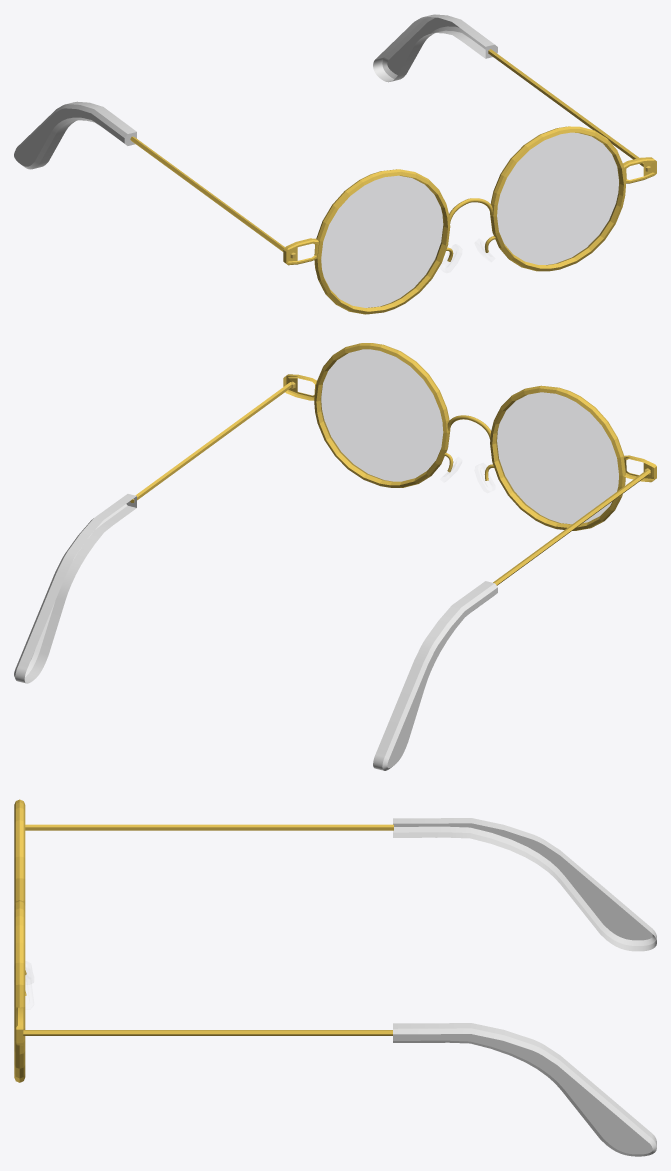
The model's file is movetoback.fbx.
3 views of the same model, one above another, from view 1: azimuth 30°, elevation 25°; view 2: azimuth 150°, elevation 25°; view 3: azimuth 270°, elevation 25° (orthographic). The views are drawn at different scales.
Parts seen in each view (by area): view 1: Disc, Extrude, Sweep, Cylinder, Cube; view 2: Disc, Extrude, Sweep, Cylinder, Cube; view 3: Extrude, Cylinder, Sweep.
Boxes of the visible parts, x1,y1,x2,y2 form: Disc: (321,133,619,307); Extrude: (14,14,497,169); Sweep: (314,126,625,314); Cylinder: (130,49,643,251); Cube: (283,157,656,265); Disc: (321,349,618,523); Extrude: (14,494,497,770); Sweep: (314,343,625,530); Cylinder: (130,382,650,585); Cube: (283,374,656,482); Extrude: (393,818,656,1156); Cylinder: (23,824,393,1035); Sweep: (14,799,25,1082).
Size of the model in its own units: 1177 by 496 by 1494.
